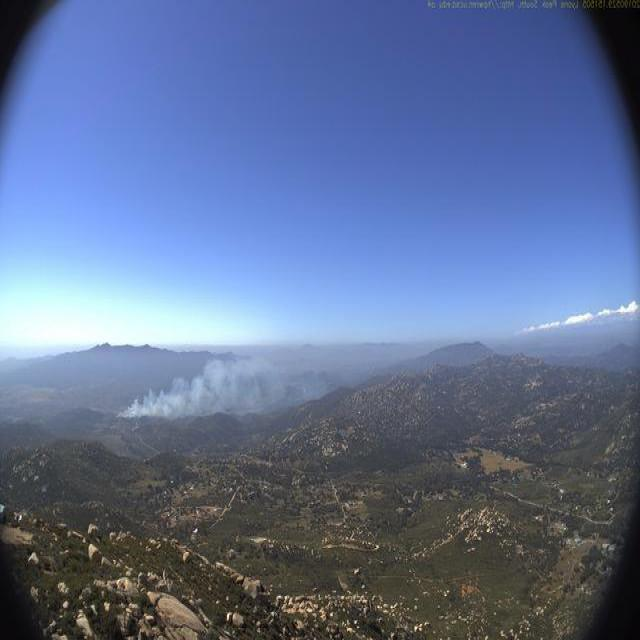smoke: (115, 351, 337, 425)
